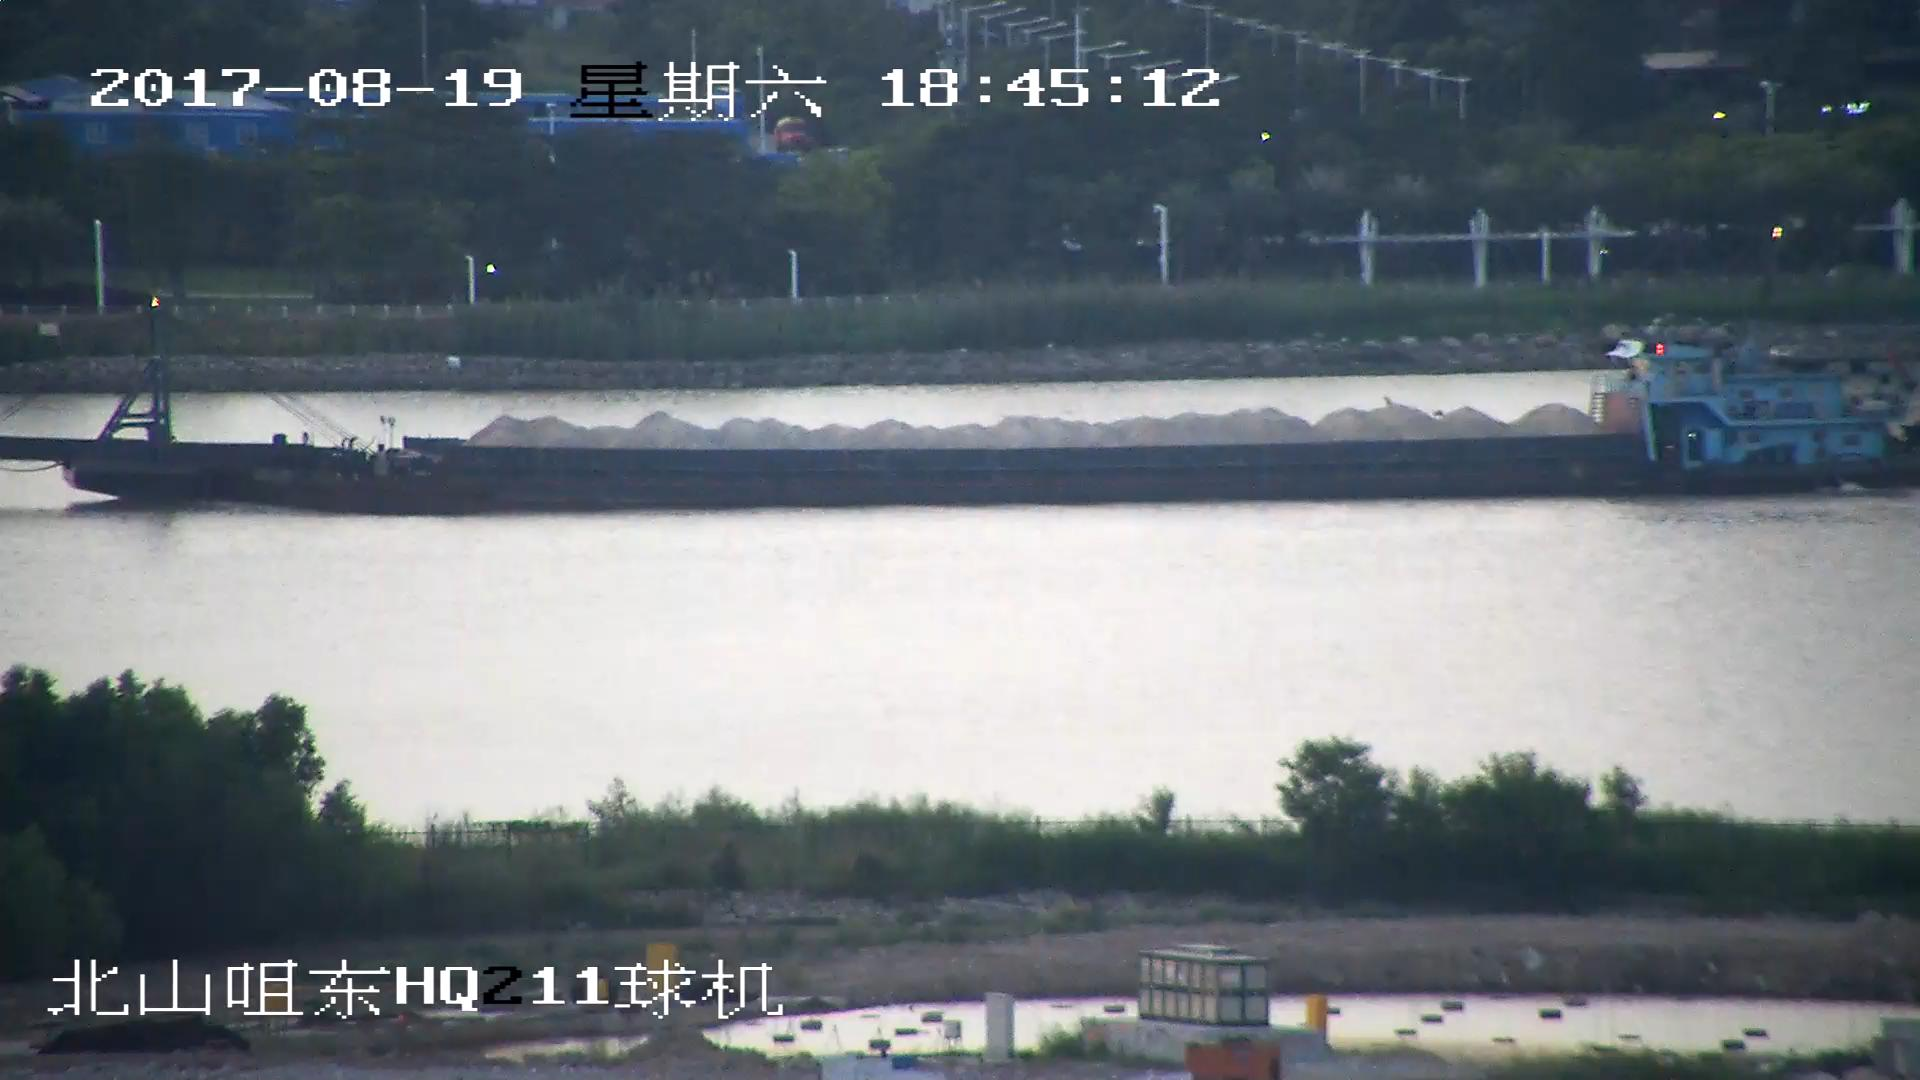ore carrier: (1, 297, 1920, 520)
